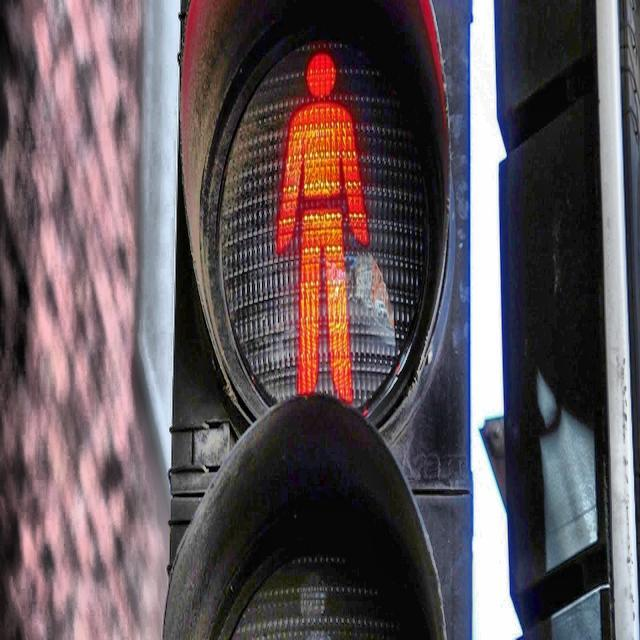red_light: (274, 46, 374, 408)
